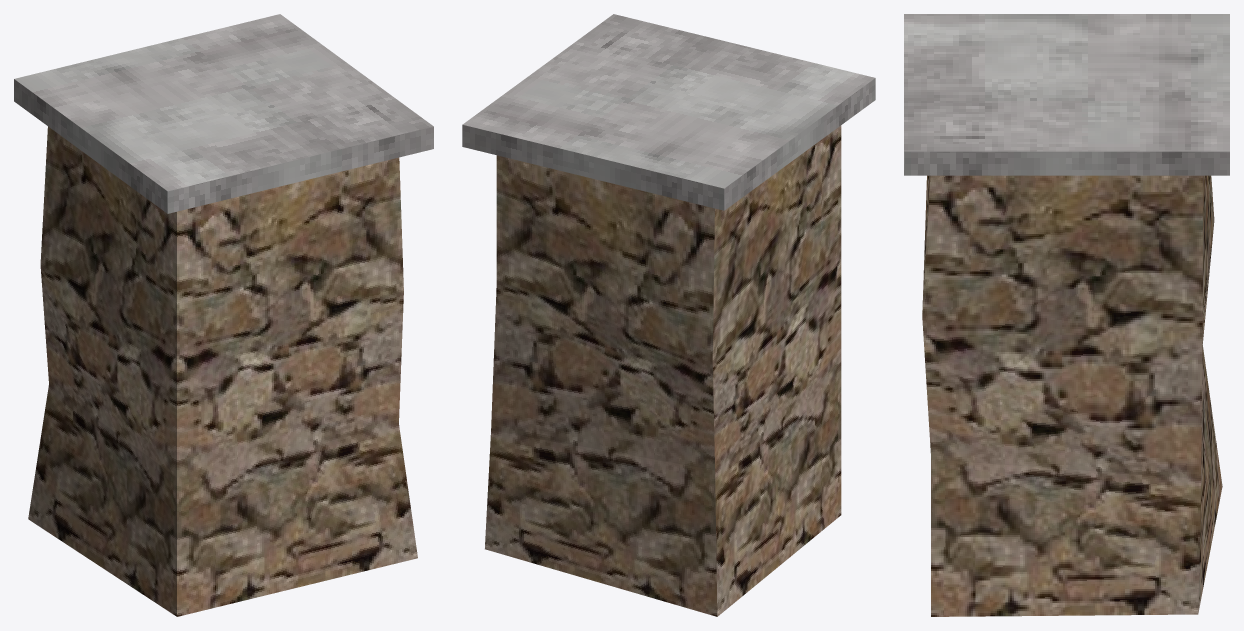
File: lf_drystone_column_capped.glb
The picture shows the model from 3 angles, left to right: view 1: azimuth 30°, elevation 25°; view 2: azimuth 150°, elevation 25°; view 3: azimuth 270°, elevation 25°; orthographic projection. The views are drawn at different scales.
Visible parts, largest first — view 1: drystone_column_capped; view 2: drystone_column_capped; view 3: drystone_column_capped.
Part boxes in pixels (left/top/right/bottom): drystone_column_capped: left=14, top=14, right=433, bottom=616; drystone_column_capped: left=462, top=14, right=875, bottom=616; drystone_column_capped: left=904, top=14, right=1229, bottom=616.
Bounding box in the file's own units: 0.6 × 0.9486 × 0.6.
2 materials, 2 textured.
